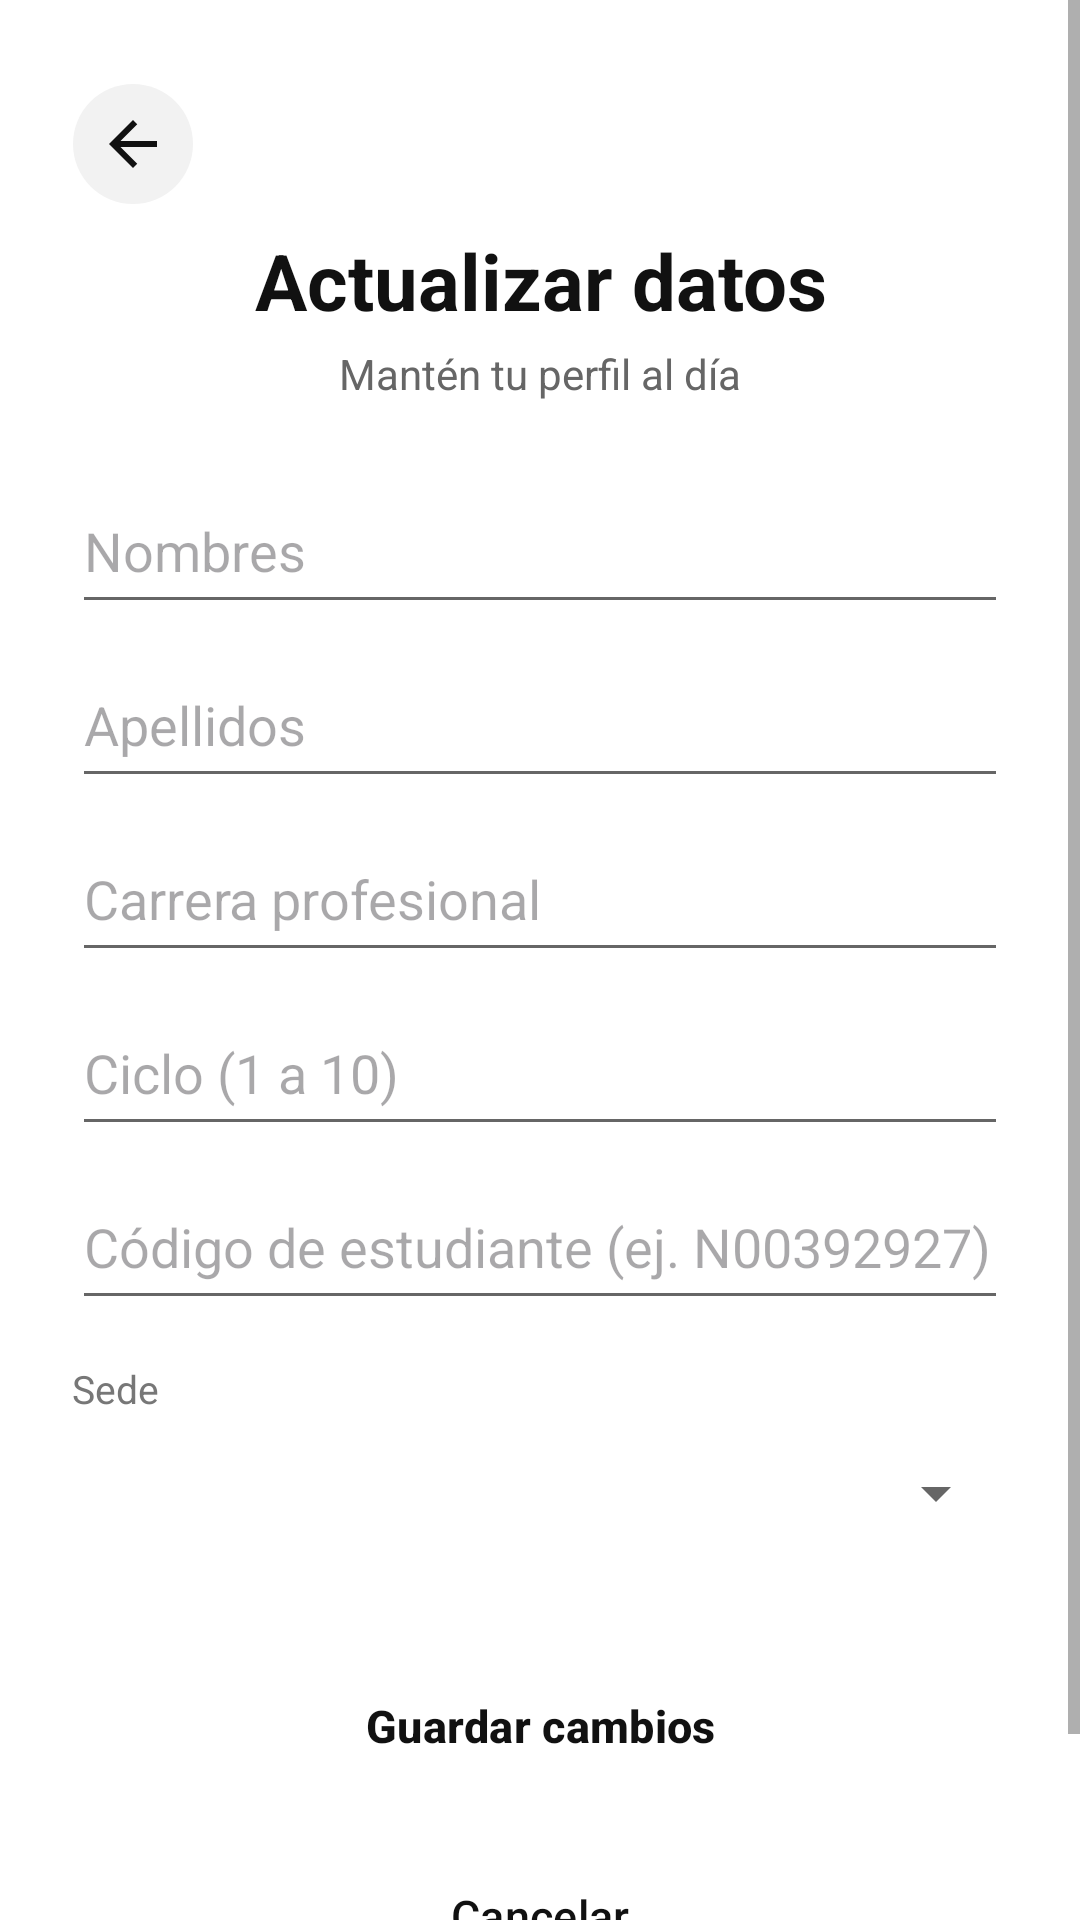

Named icons in this screenshot (1080 x 1920) and their centers, [x,y]:
Regresar: [133,144]
